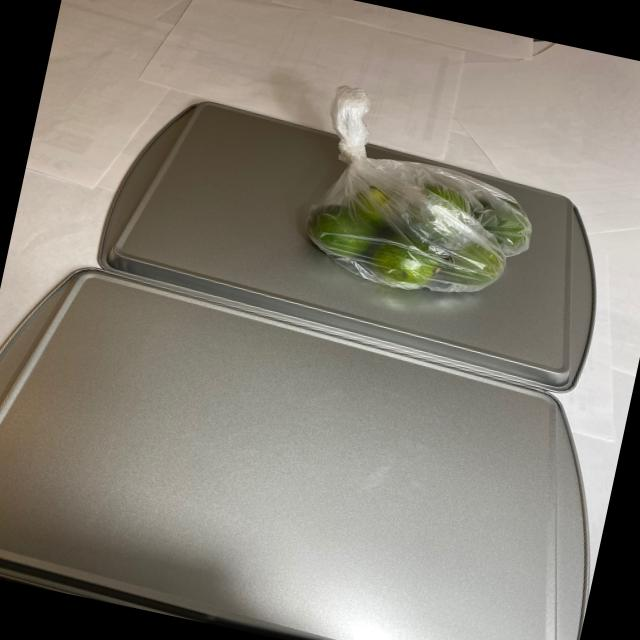lemon: (293, 151, 537, 314)
